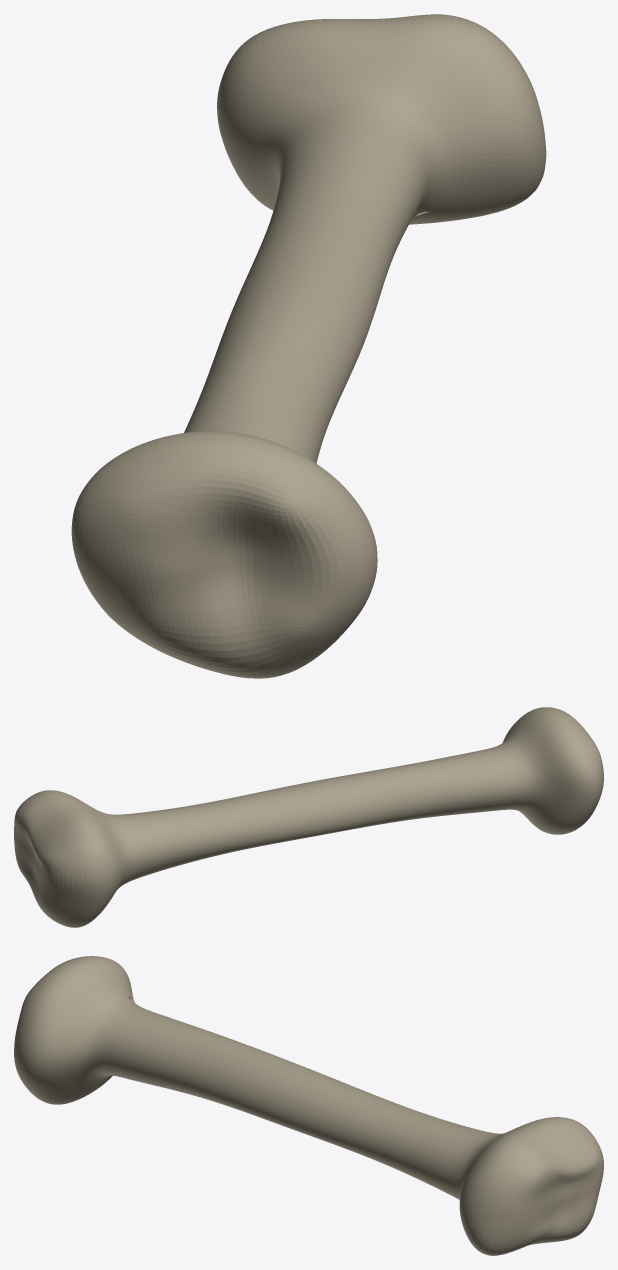
File: Bone.fbx
3 renders of one model, top to bottom at view 1: azimuth 30°, elevation 25°; view 2: azimuth 150°, elevation 25°; view 3: azimuth 270°, elevation 25°, orthographic. The views are drawn at different scales.
Parts seen in each view (by area): view 1: Bone; view 2: Bone; view 3: Bone.
Part boxes in pixels (bbox=[...]): Bone: bbox=[71, 14, 546, 678]; Bone: bbox=[14, 707, 603, 927]; Bone: bbox=[14, 956, 603, 1255].
Bounding box in the file's own units: 17.26 × 4.81 × 19.57.
